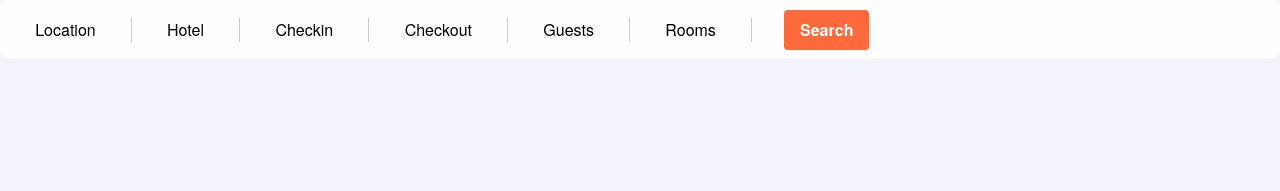
it: 1) SearchBar Autocomplete › landing mode: opens Location, types → debounce → shows suggestions
This screenshot has width=1280, height=191.
Click the button "Location".
click(65, 30)  # box top-left (16, 8), bottom-right (115, 51)
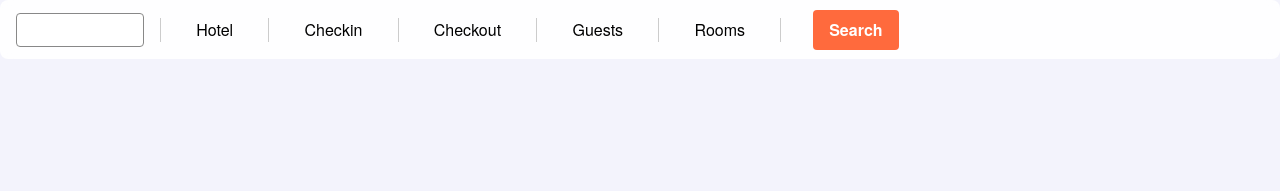
Type "Par" into the field.
click(80, 30); type("Par")  # box top-left (16, 13), bottom-right (144, 47)
Wait 300 ms
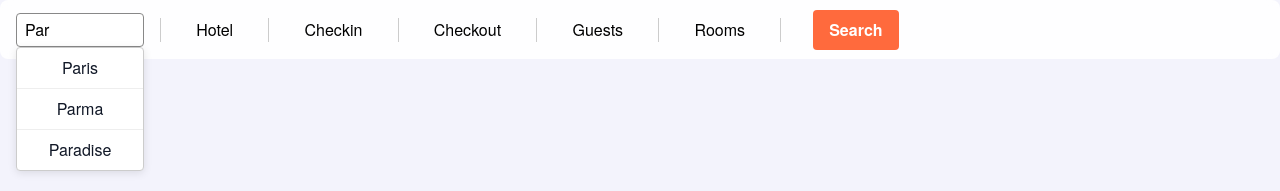
Check: the text "Paris" is shown, box top-left (17, 48), bottom-right (143, 89)
Check: the text "Parma" is shown, box top-left (17, 89), bottom-right (143, 130)
Check: the text "Paradise" is shown, box top-left (49, 138), bottom-right (111, 161)
